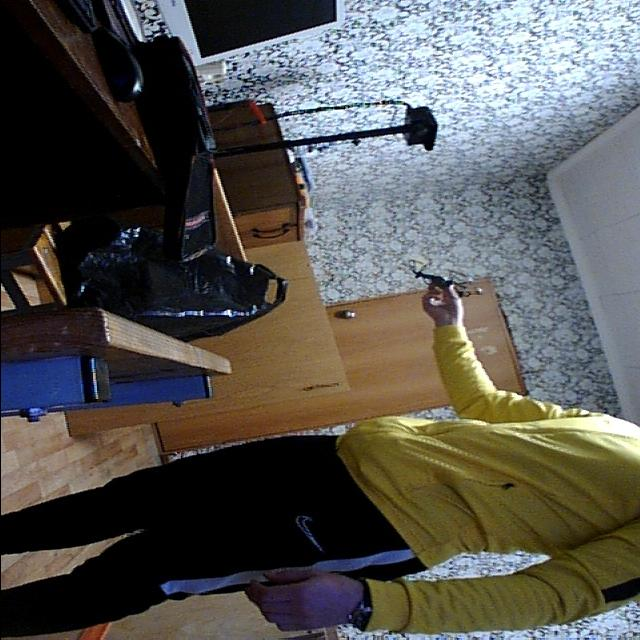drone: (398, 254, 478, 308)
